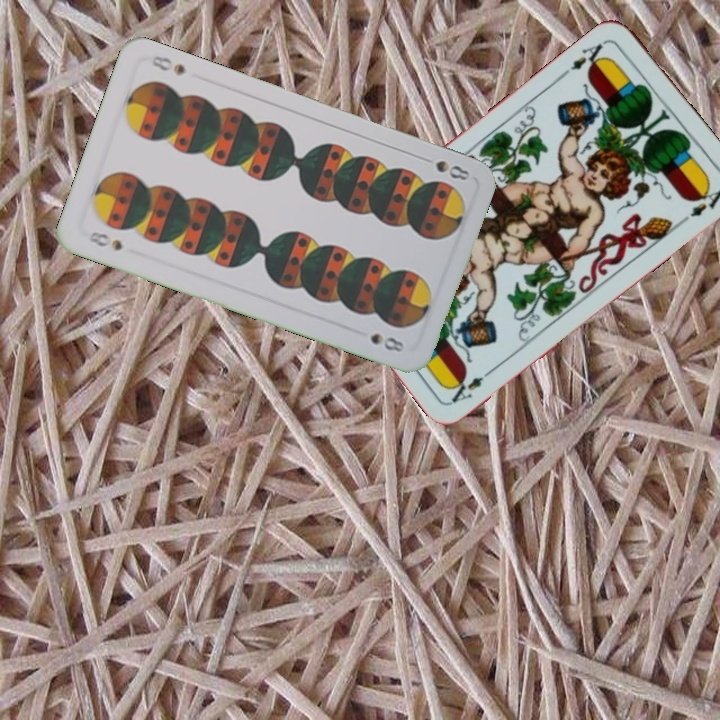EA: (558, 36, 610, 79), (447, 363, 497, 406)
S8: (431, 156, 473, 183), (84, 227, 125, 254)
